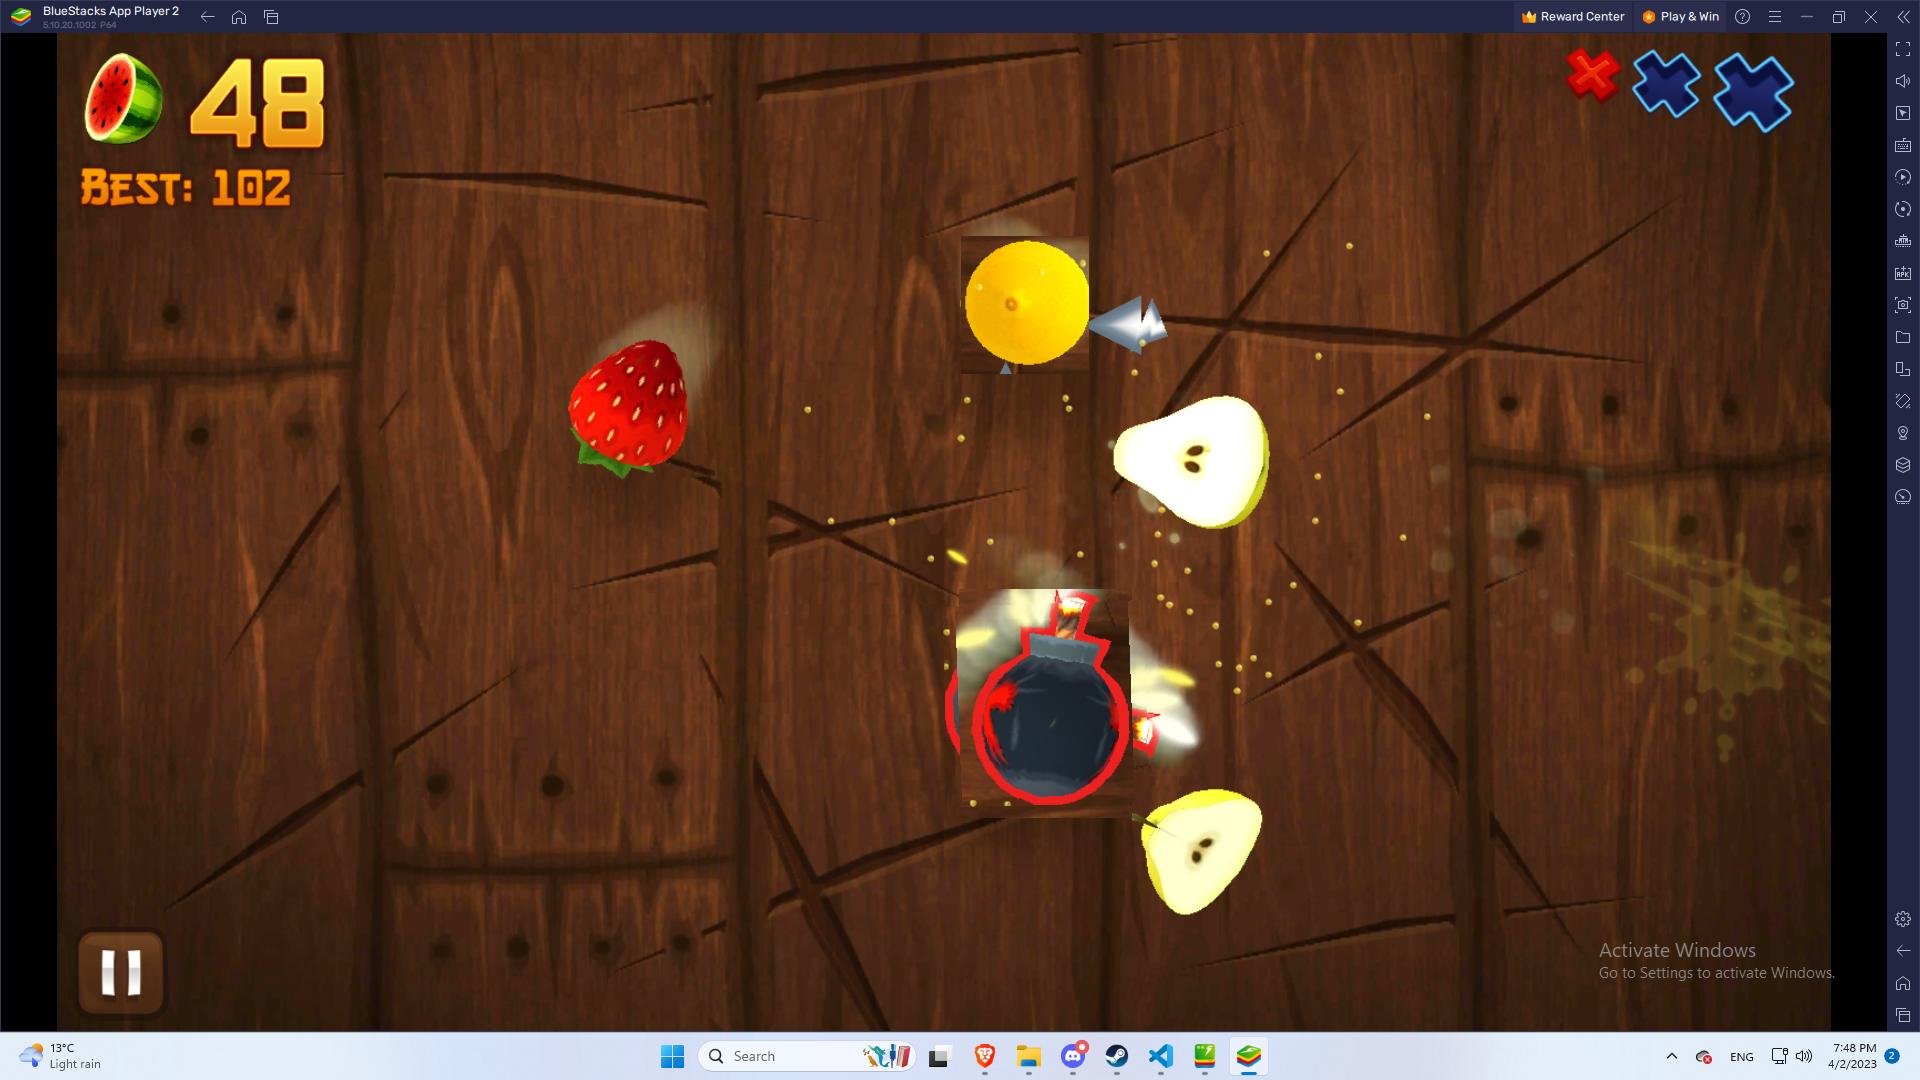bomb: (944, 601, 1149, 806)
fruit: (547, 336, 713, 485), (959, 239, 1092, 372)
